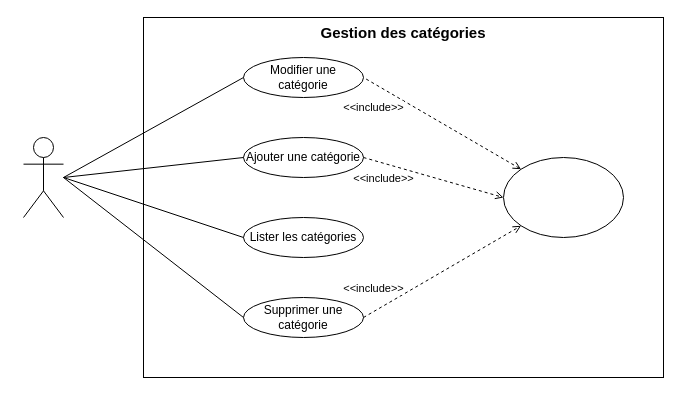
Some shapes in this 681 by 395 pixel diagram are drawn without their labels. The box of each missing label's shape, as (x1, y1, x2, y2) in pixels:
S'authentifier en tant qu'administrateur: (502, 156, 624, 238)
Utilisateur: (22, 136, 64, 218)
